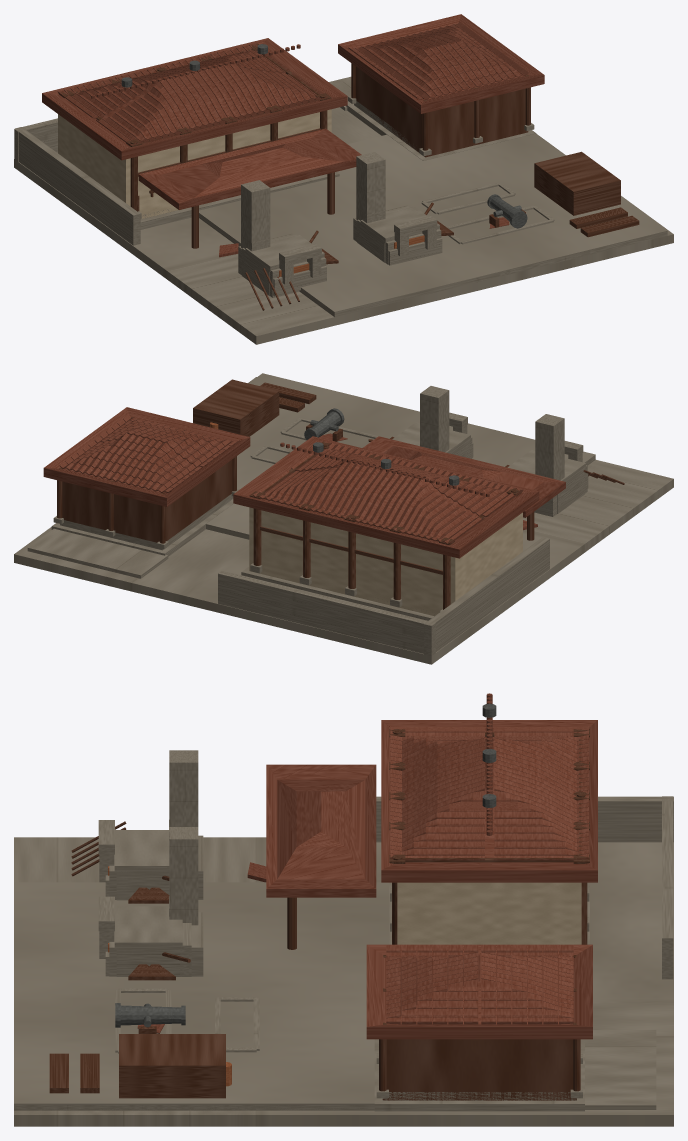
3 views of the same model, one above another, from view 1: azimuth 30°, elevation 25°; view 2: azimuth 150°, elevation 25°; view 3: azimuth 270°, elevation 25° (orthographic). The views are drawn at different scales.
Parts seen in each view (by area): view 1: garrison_part_0004, garrison_part_0003, garrison_part_0001, garrison_part_0000, garrison_part_0005, garrison_part_0006, garrison_part_0002; view 2: garrison_part_0001, garrison_part_0004, garrison_part_0000, garrison_part_0003, garrison_part_0005, garrison_part_0006, garrison_part_0002; view 3: garrison_part_0004, garrison_part_0003, garrison_part_0000, garrison_part_0001, garrison_part_0005, garrison_part_0006, garrison_part_0002.
Boxes of the visible parts, left/top/right/bottom form: garrison_part_0004: left=42, top=14, right=544, bottom=209; garrison_part_0003: left=75, top=49, right=667, bottom=316; garrison_part_0001: left=14, top=24, right=536, bottom=248; garrison_part_0000: left=14, top=76, right=673, bottom=344; garrison_part_0005: left=241, top=151, right=620, bottom=310; garrison_part_0006: left=487, top=194, right=639, bottom=237; garrison_part_0002: left=138, top=103, right=667, bottom=316; garrison_part_0001: left=51, top=417, right=549, bottom=655; garrison_part_0004: left=43, top=407, right=565, bottom=558; garrison_part_0000: left=14, top=377, right=673, bottom=664; garrison_part_0003: left=62, top=373, right=595, bottom=614; garrison_part_0005: left=193, top=379, right=624, bottom=513; garrison_part_0006: left=260, top=382, right=344, bottom=441; garrison_part_0002: left=60, top=433, right=537, bottom=550; garrison_part_0004: left=266, top=693, right=597, bottom=1039; garrison_part_0003: left=14, top=729, right=586, bottom=1110; garrison_part_0000: left=14, top=837, right=673, bottom=1126; garrison_part_0001: left=287, top=729, right=673, bottom=1111; garrison_part_0005: left=71, top=750, right=231, bottom=1098; garrison_part_0006: left=49, top=1003, right=185, bottom=1093; garrison_part_0002: left=14, top=862, right=576, bottom=1110.
Size of the model in its own units: 2030 by 588 by 2040.
1 material, 1 textured.
